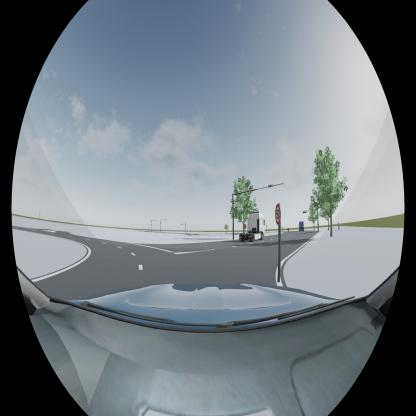Green Light: (302, 210, 308, 214)
Red Light: (268, 184, 273, 188)
Speed Limit 50: (275, 204, 281, 225)
Speed Limit 60: (242, 224, 246, 229)
